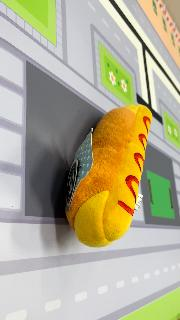hotdog: (64, 104, 154, 248)
